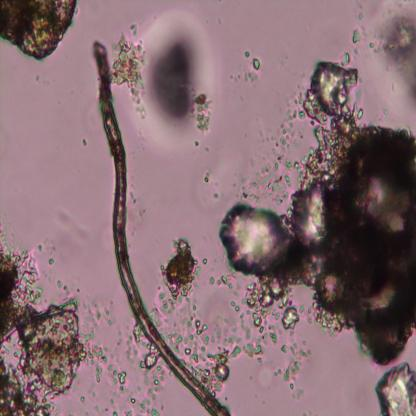Background material: (227, 52, 416, 364), (0, 219, 85, 414), (114, 12, 217, 148), (0, 0, 77, 60), (378, 10, 416, 98), (247, 276, 298, 334), (242, 147, 291, 204), (373, 361, 416, 415), (166, 236, 200, 303), (196, 341, 233, 396), (80, 326, 112, 385), (69, 289, 115, 329), (279, 338, 311, 390), (184, 313, 206, 358), (232, 65, 262, 93), (143, 349, 157, 372), (113, 368, 128, 386), (349, 28, 362, 46), (339, 51, 352, 65), (251, 57, 262, 72), (203, 169, 211, 184), (80, 134, 88, 148), (242, 51, 252, 59)
